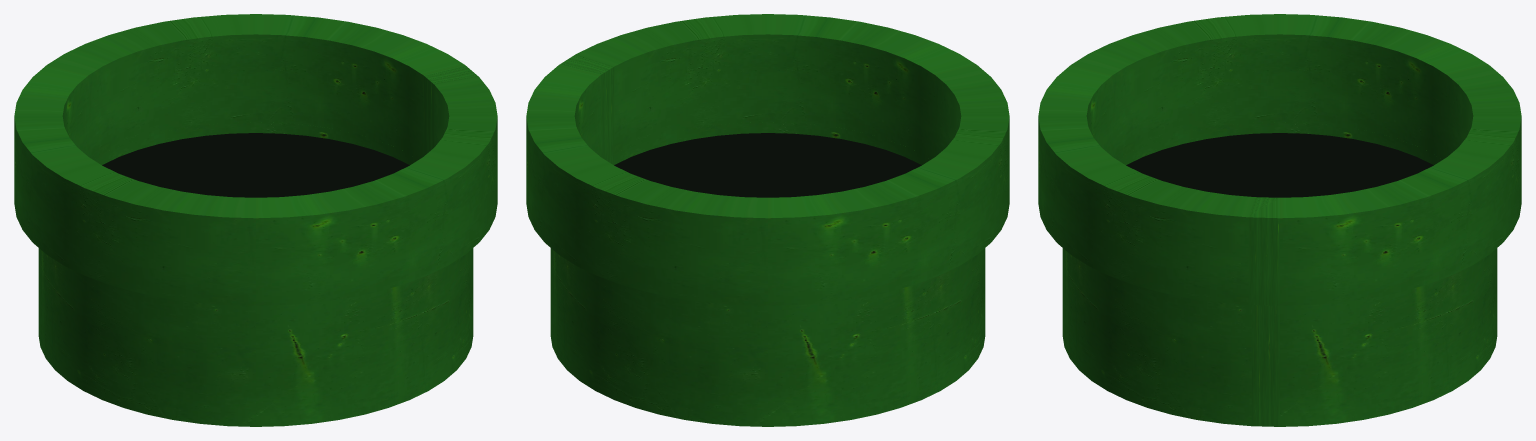
File: pipe_top.glb
3 renders of one model, left to right at view 1: azimuth 30°, elevation 25°; view 2: azimuth 150°, elevation 25°; view 3: azimuth 270°, elevation 25°, orthographic.
Visible parts, largest first — view 1: tube.001, tube, inner; view 2: tube.001, tube, inner; view 3: tube.001, tube, inner.
Part boxes in pixels (x1=…): tube.001: x1=14, y1=14, x2=497, y2=305; tube: x1=38, y1=122, x2=473, y2=426; inner: x1=102, y1=133, x2=409, y2=197; tube.001: x1=526, y1=14, x2=1009, y2=305; tube: x1=550, y1=122, x2=985, y2=426; inner: x1=614, y1=133, x2=921, y2=197; tube.001: x1=1038, y1=14, x2=1521, y2=305; tube: x1=1062, y1=122, x2=1497, y2=426; inner: x1=1126, y1=133, x2=1433, y2=197.
Bounding box in the file's own units: 2 × 0.9999 × 2.
2 materials, 1 textured.
